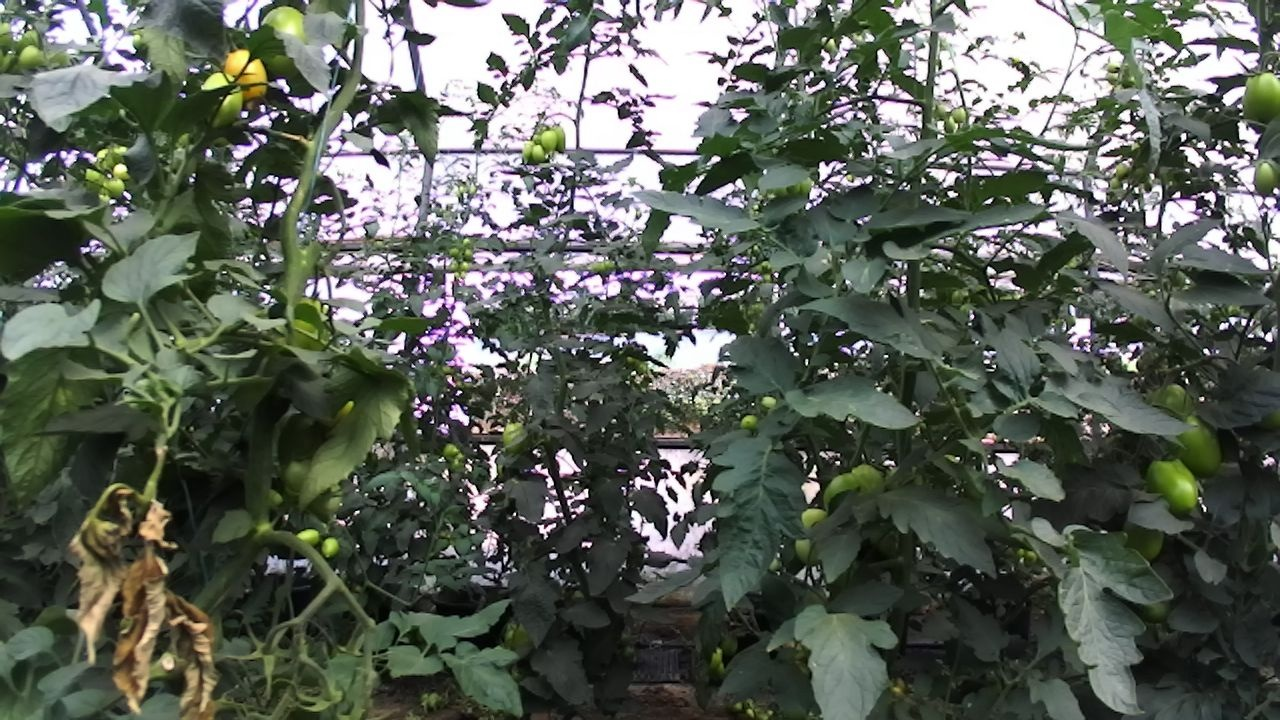tomato: (255, 0, 325, 97), (1135, 446, 1208, 527), (185, 62, 258, 139), (212, 39, 283, 116), (817, 452, 895, 521), (1164, 409, 1233, 485), (1230, 58, 1280, 139), (787, 499, 842, 570), (276, 449, 331, 499), (1239, 152, 1280, 204), (497, 416, 533, 460), (310, 530, 349, 570), (289, 518, 328, 557), (11, 38, 51, 76), (549, 119, 574, 160), (99, 175, 133, 203), (734, 409, 764, 435), (527, 142, 550, 168), (539, 126, 560, 154)
